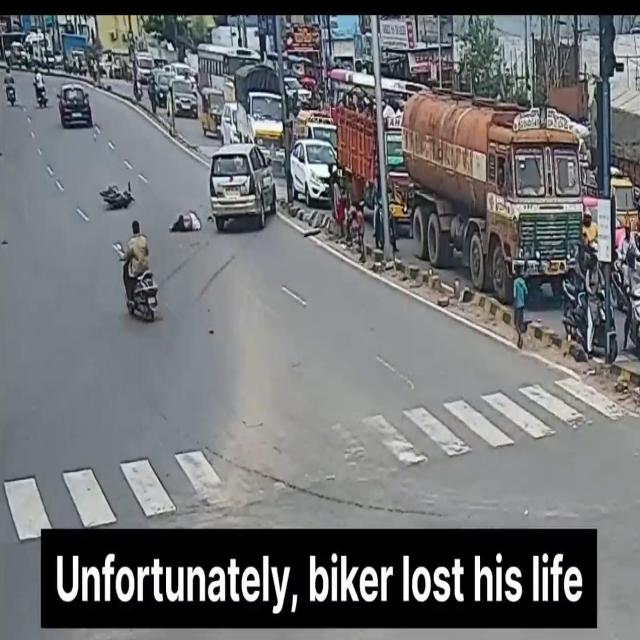accident: (169, 143, 279, 249), (96, 168, 138, 216)
non_accident: (397, 83, 640, 362), (0, 7, 205, 116), (288, 59, 396, 249), (204, 53, 284, 179)
